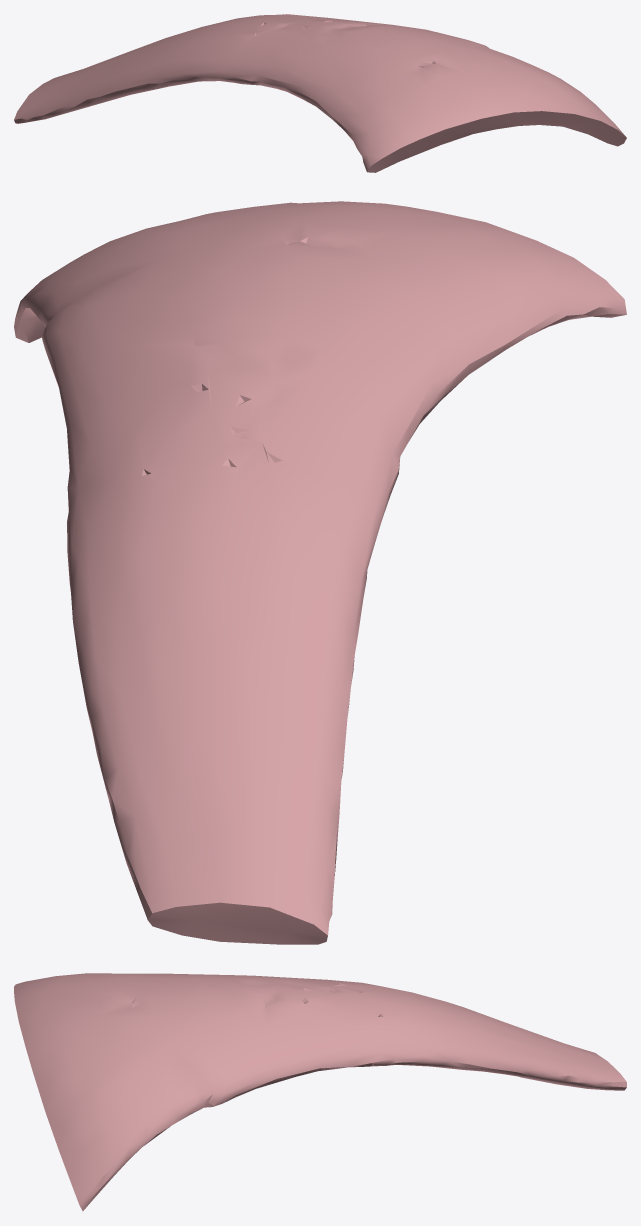
The model's file is fma319815_mm2219.glb.
3 views of the same model, one above another, from view 1: azimuth 30°, elevation 25°; view 2: azimuth 150°, elevation 25°; view 3: azimuth 270°, elevation 25° (orthographic). The views are drawn at different scales.
Visible parts, largest first — view 1: FMA319815_MM2219; view 2: FMA319815_MM2219; view 3: FMA319815_MM2219.
Part boxes in pixels (box(x1,y1,x2,y2)): FMA319815_MM2219: box(14, 14, 626, 172); FMA319815_MM2219: box(14, 201, 626, 944); FMA319815_MM2219: box(14, 973, 626, 1210).
Bounding box in the file's own units: 0.0259 × 0.0104 × 0.0324.
